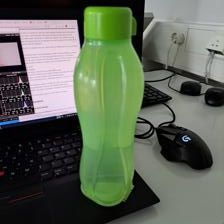bottle: (70, 5, 148, 208)
